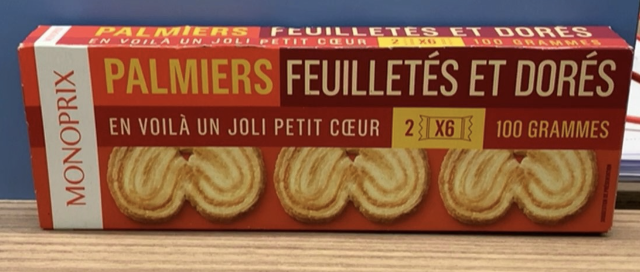cookies_100g-199g: (40, 37, 607, 219)
